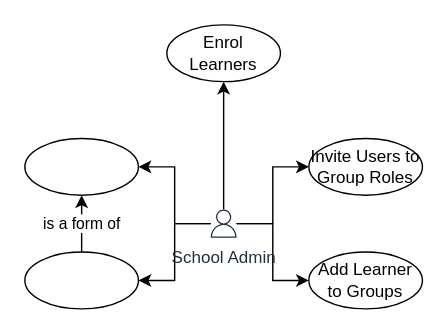
This 447x334 diagram has some shape labels left out. The box of each missing label's shape, as (x1, y1, x2, y2) in pixels:
Develop Classes & Syndicates: (23, 137, 138, 195)
Develop Groups: (23, 251, 138, 309)
